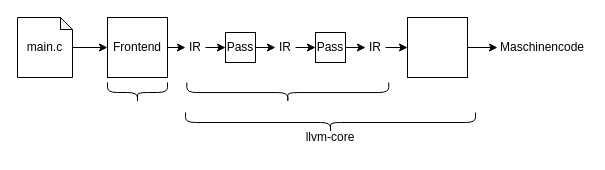
The diagram is 605 pixels wide and 170 high, and some of its shapes have lost their labels. Here are the shapes that lost their labels. From the top down, the centre of each, then its label:
At point (437, 47): "Backend".
At point (137, 92): "Clang".
At point (287, 92): "opt".
